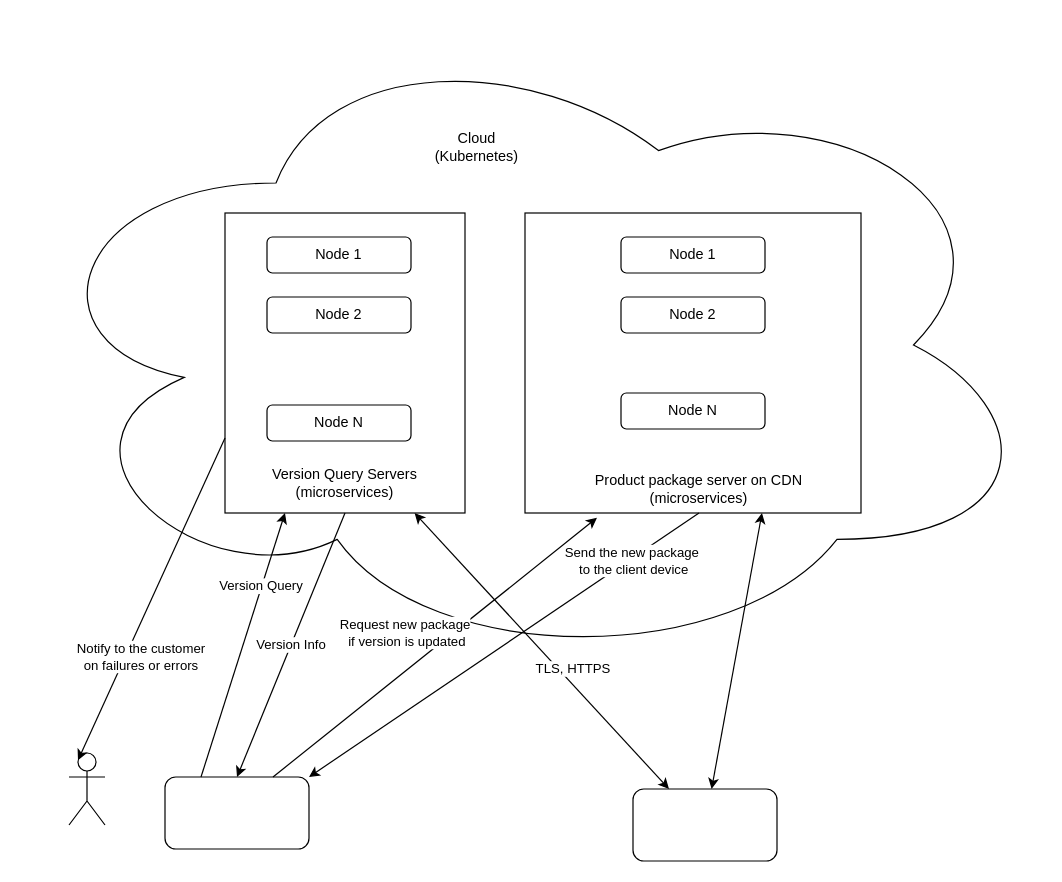
Some shapes in this 1062 by 882 pixel diagram are drawn without their labels. Each missing label, with the centre of its shape:
Client 1: pixel 236 812
Client 2: pixel 704 824
User 1: pixel 86 788
